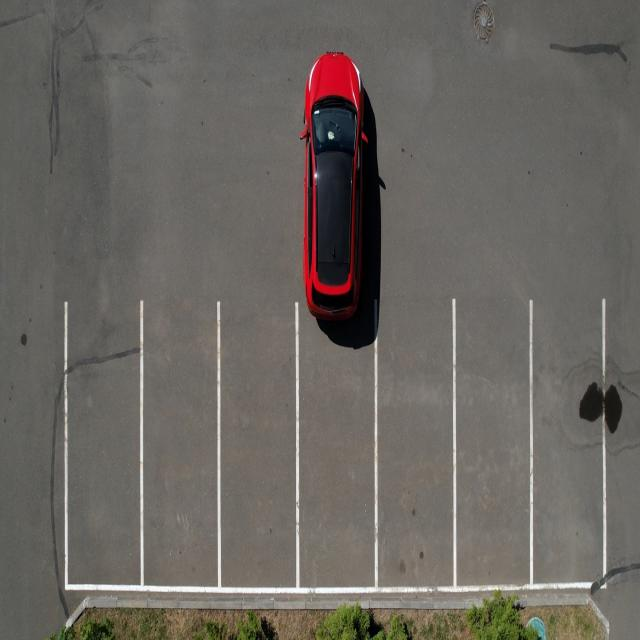space-empty: (216, 298, 301, 589), (450, 298, 534, 588), (139, 301, 223, 588), (374, 300, 458, 585), (298, 298, 378, 590), (528, 298, 608, 588), (63, 304, 144, 589), (0, 302, 68, 603)
